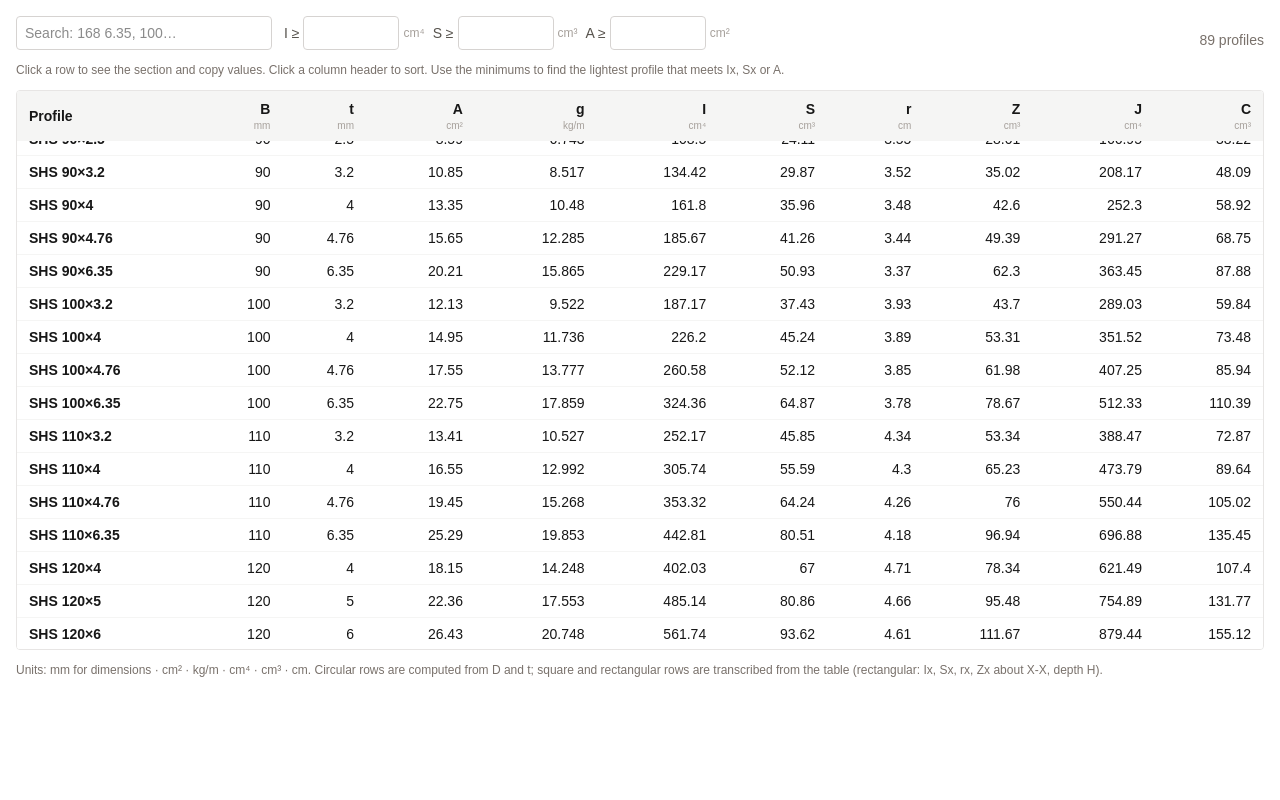
Scenario: TubeExplorer › detail draws the marks and the legend
This screenshot has width=1280, height=800.
(page scrolled)
Click the column heading "SHS 100×4.76": (111, 370) [17,354,205,387]
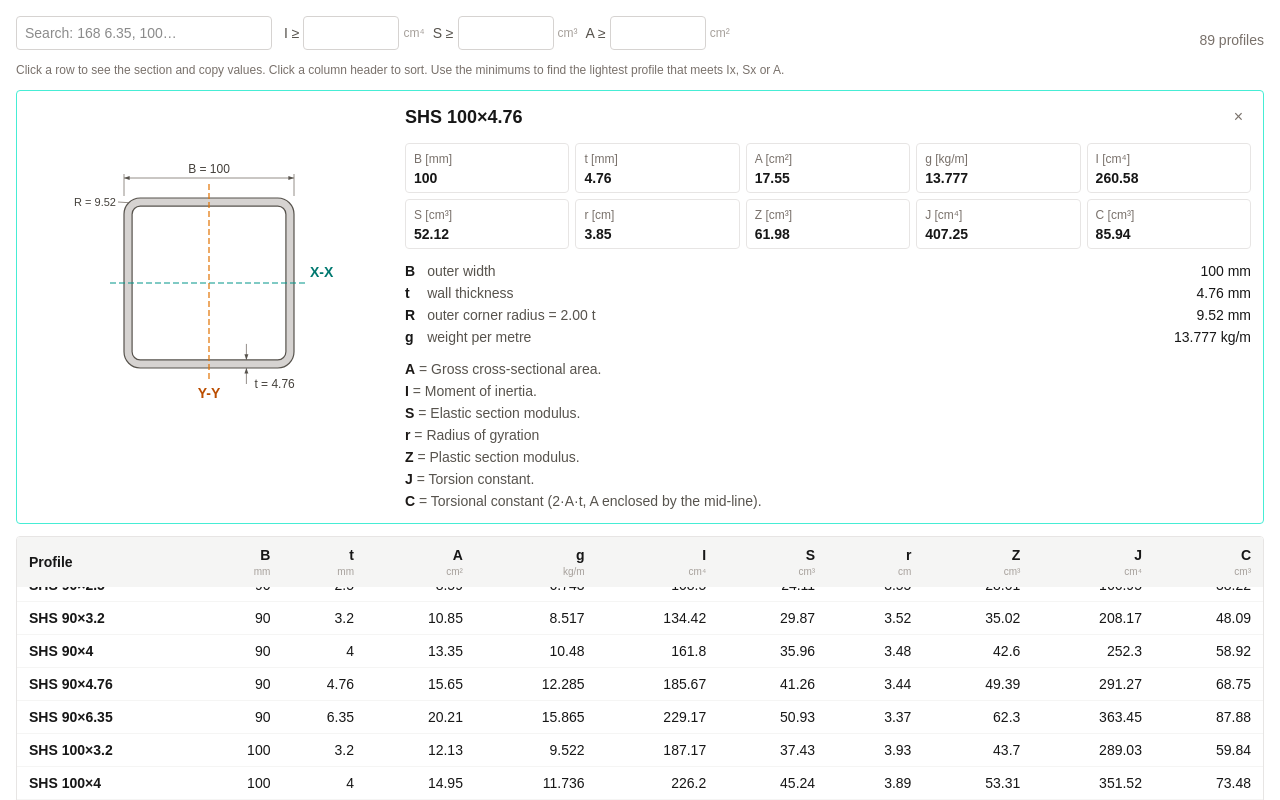
expect the picture named "SHS 100×4.76" shows "B = 100": met, box [188,162,230,176]
expect the picture named "SHS 100×4.76" shows "t = 4.76": met, box [29,103,389,463]
expect the picture named "SHS 100×4.76" shows "R = 9.52": met, box [29,103,389,463]
